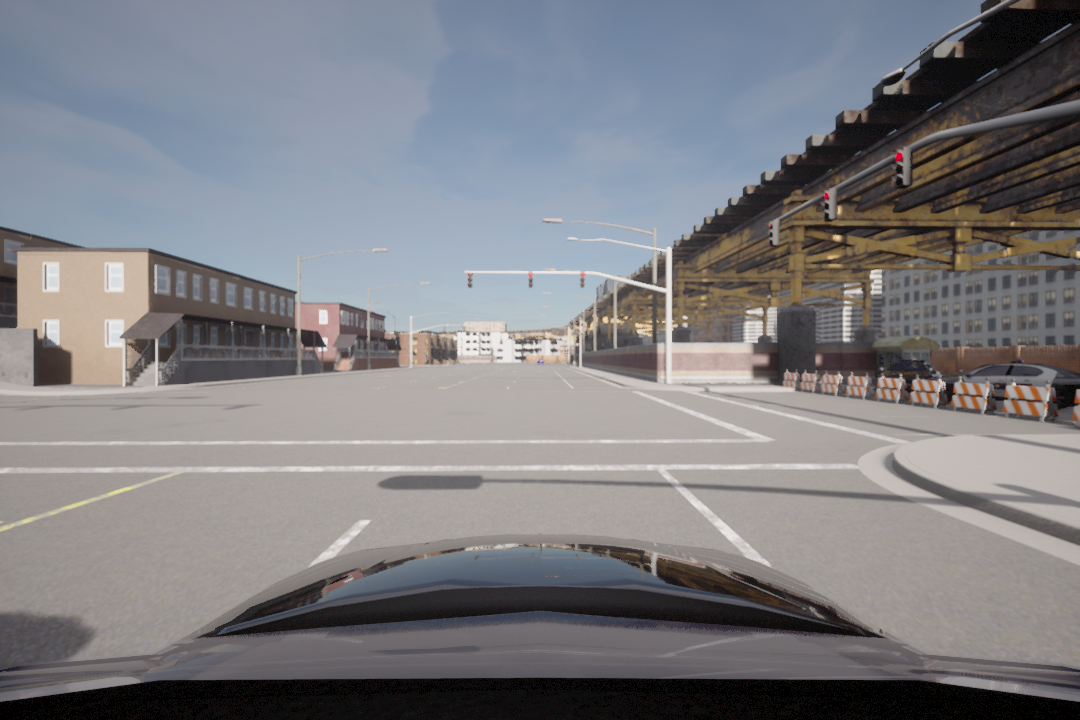TrafficLight: (890, 143, 919, 195), (763, 214, 784, 253), (821, 189, 841, 225), (463, 267, 472, 291), (579, 270, 588, 291), (526, 271, 533, 288)
